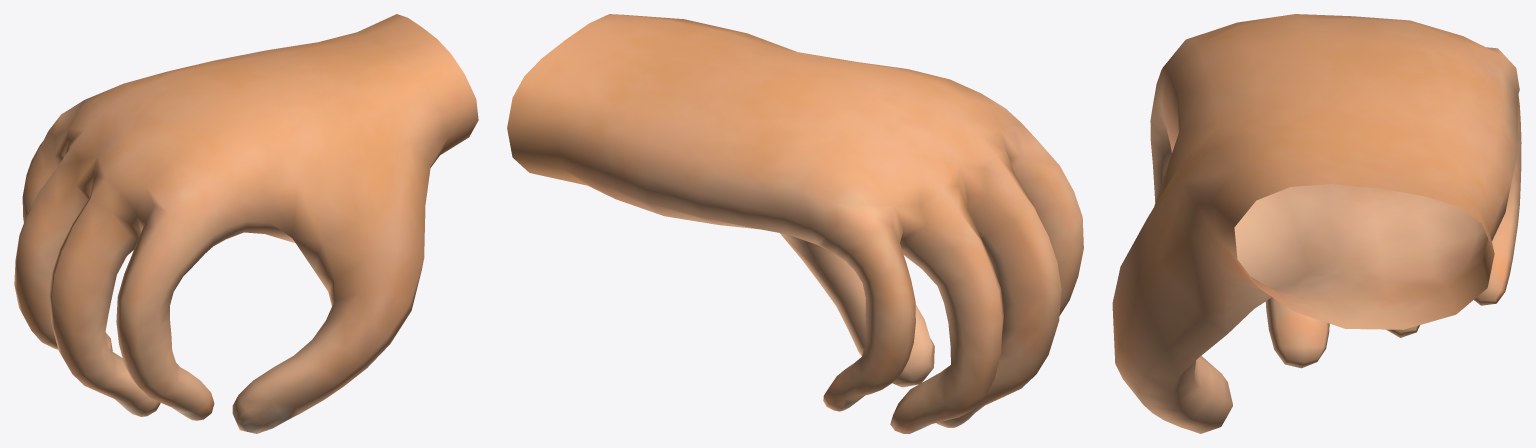
File: H_grip_large.fbx
3 renders of one model, left to right at view 1: azimuth 30°, elevation 25°; view 2: azimuth 150°, elevation 25°; view 3: azimuth 270°, elevation 25°, orthographic. The views are drawn at different scales.
Visible parts, largest first — view 1: H_grip_large; view 2: H_grip_large; view 3: H_grip_large.
Boxes of the visible parts, x1=… form: H_grip_large: x1=14, y1=14, x2=478, y2=433; H_grip_large: x1=507, y1=14, x2=1083, y2=433; H_grip_large: x1=1112, y1=14, x2=1521, y2=433.
Bounding box in the file's own units: 14.75 × 10.41 × 9.83.
Materials: 1 (1 with a texture image).
